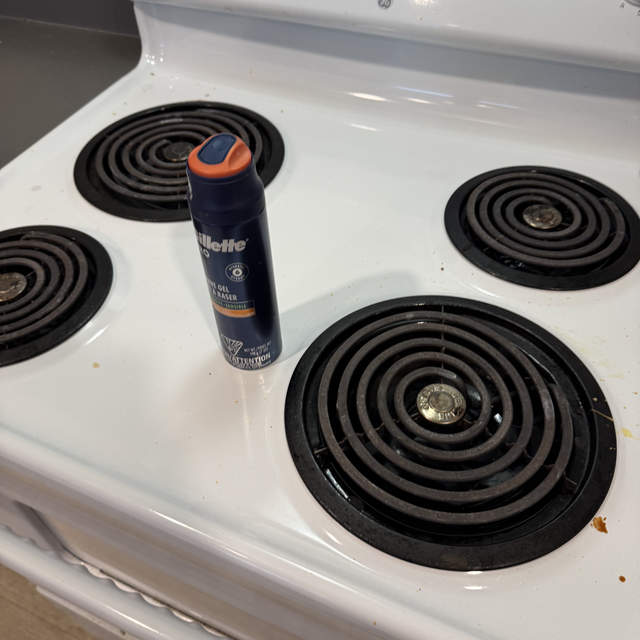Aerosol: (179, 132, 285, 368)
Stove: (0, 0, 640, 640)
